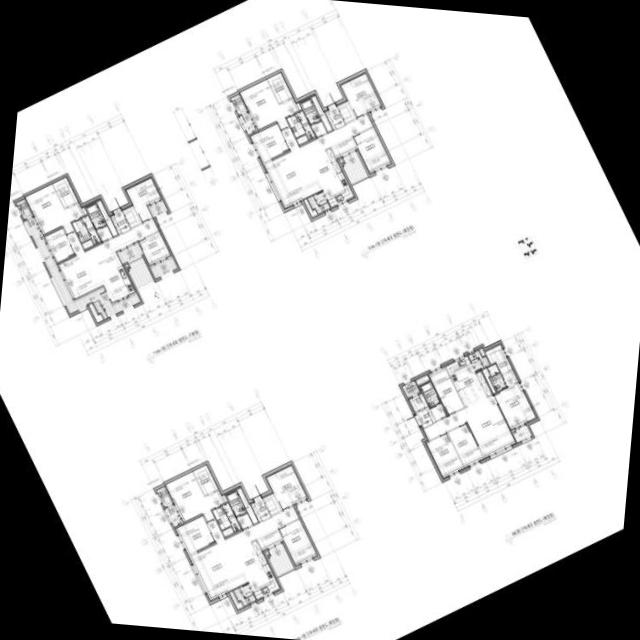background: (0, 0, 640, 640)
space_balconi: (25, 217, 140, 319), (342, 153, 368, 184), (268, 545, 294, 576), (127, 257, 153, 288), (150, 257, 177, 278), (307, 191, 330, 213), (233, 583, 256, 605), (468, 350, 490, 371), (119, 244, 141, 263), (239, 112, 256, 134), (165, 504, 181, 526), (512, 425, 532, 442), (150, 200, 168, 217)
space_bedroom: (165, 471, 225, 522), (240, 79, 299, 130), (25, 184, 84, 234), (494, 370, 535, 429), (340, 72, 382, 117), (266, 464, 307, 509), (278, 518, 317, 564), (353, 126, 391, 172), (426, 433, 464, 477), (126, 177, 161, 222), (250, 123, 289, 162), (176, 515, 215, 554), (448, 423, 483, 466), (138, 231, 171, 265), (44, 228, 74, 262)
space_dressroom: (485, 344, 512, 374), (267, 72, 293, 103), (53, 176, 78, 207), (193, 464, 218, 495)
space_front: (110, 209, 131, 233), (325, 106, 346, 129), (414, 406, 435, 428), (251, 498, 271, 521)
space_kitchen: (308, 148, 354, 207), (233, 540, 279, 599), (446, 356, 492, 406), (93, 252, 135, 302)
space_living_room: (264, 113, 374, 207), (189, 506, 299, 599), (57, 218, 159, 300), (423, 395, 515, 457)
space_other: (429, 367, 464, 414), (96, 200, 118, 236), (237, 487, 258, 524), (311, 95, 332, 131), (256, 528, 283, 550), (331, 136, 357, 158), (122, 205, 141, 227), (263, 493, 281, 515), (337, 101, 355, 122), (409, 393, 428, 411), (482, 368, 495, 393), (303, 198, 318, 218), (88, 303, 103, 322), (96, 225, 112, 242), (431, 403, 447, 420), (229, 591, 243, 610), (311, 121, 327, 137), (237, 513, 252, 529), (416, 375, 429, 385), (82, 239, 93, 249), (296, 102, 302, 110), (81, 206, 87, 214), (479, 348, 485, 356), (222, 494, 227, 502), (265, 551, 269, 555), (340, 158, 343, 162), (125, 264, 128, 267)
space_outdoor_room: (230, 94, 247, 114), (16, 198, 32, 219), (156, 486, 172, 507), (402, 380, 419, 397)
space_toilet: (286, 110, 315, 144), (212, 502, 240, 536), (72, 215, 100, 244), (487, 363, 507, 391), (85, 203, 106, 229), (300, 98, 320, 124), (226, 490, 246, 516), (420, 381, 440, 407)
